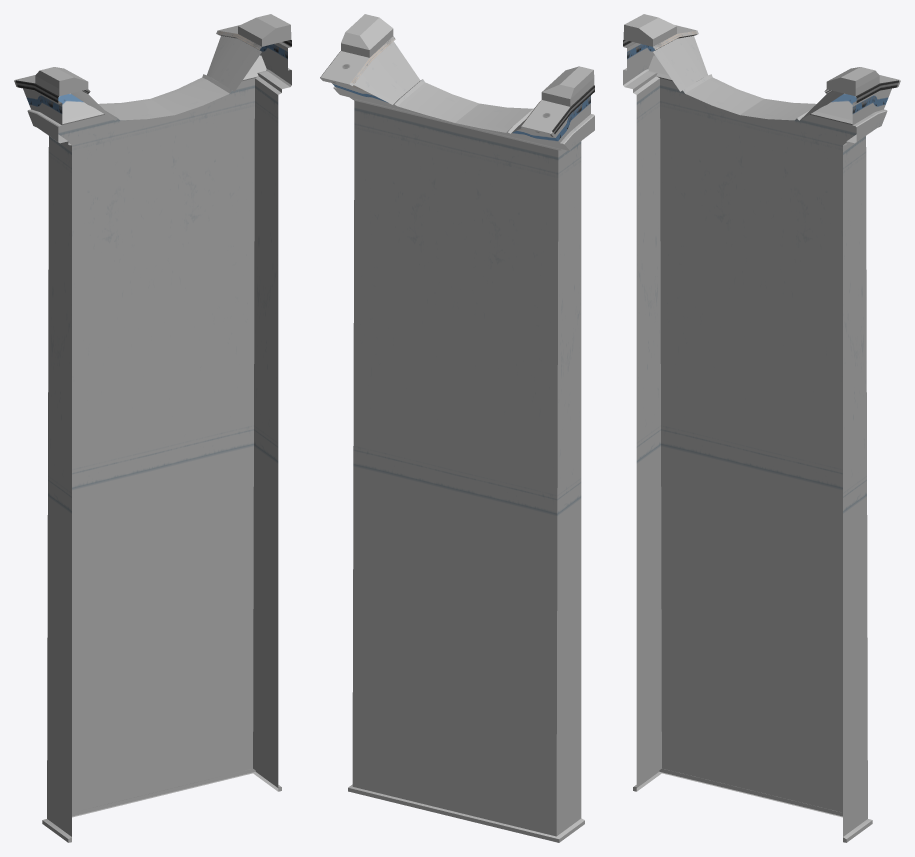
Rendered from aquaduct end spillway.fbx.
3 renders of one model, left to right at view 1: azimuth 30°, elevation 25°; view 2: azimuth 150°, elevation 25°; view 3: azimuth 330°, elevation 25°, orthographic.
Visible parts, largest first — view 1: aquaduct_end_piece2; view 2: aquaduct_end_piece2; view 3: aquaduct_end_piece2.
Part boxes in pixels (x1=…): aquaduct_end_piece2: x1=14, y1=14, x2=291, y2=842; aquaduct_end_piece2: x1=320, y1=14, x2=594, y2=842; aquaduct_end_piece2: x1=623, y1=14, x2=900, y2=842.
Size of the model in its own units: 2.79 by 8.73 by 0.9273.
1 material, 1 textured.
